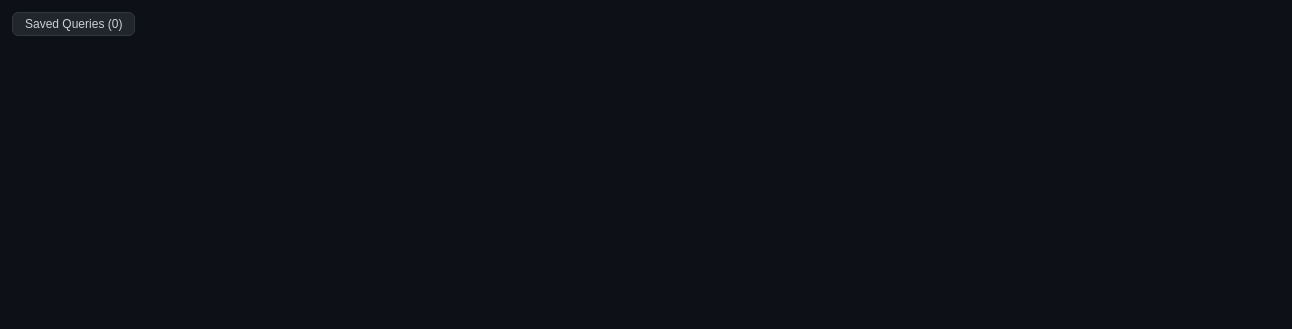
Test case: SavedQueriesPanel (queries-ui) › rendering › shows "No saved queries" when the list is empty
The image size is (1292, 329).
Click the button "Saved Queries (0)" at (74, 24), box 12,12 -> 135,36
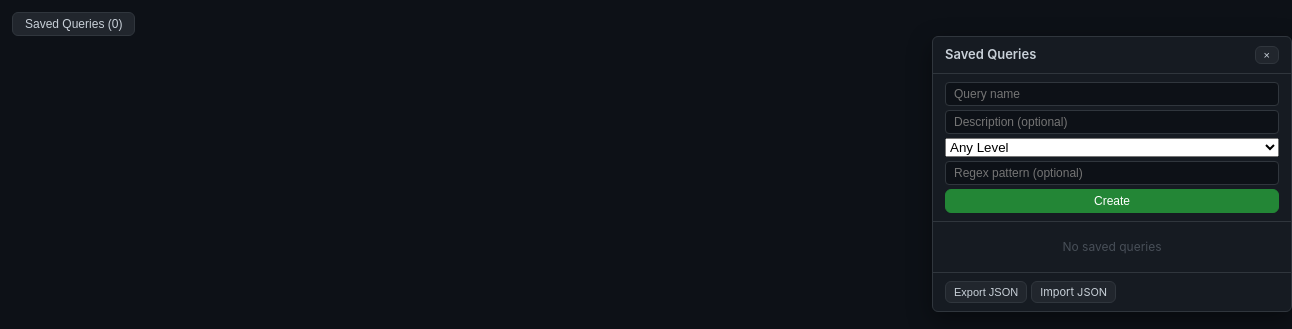
expect the text "No saved queries" is shown: met, box 1062,238 -> 1162,254
